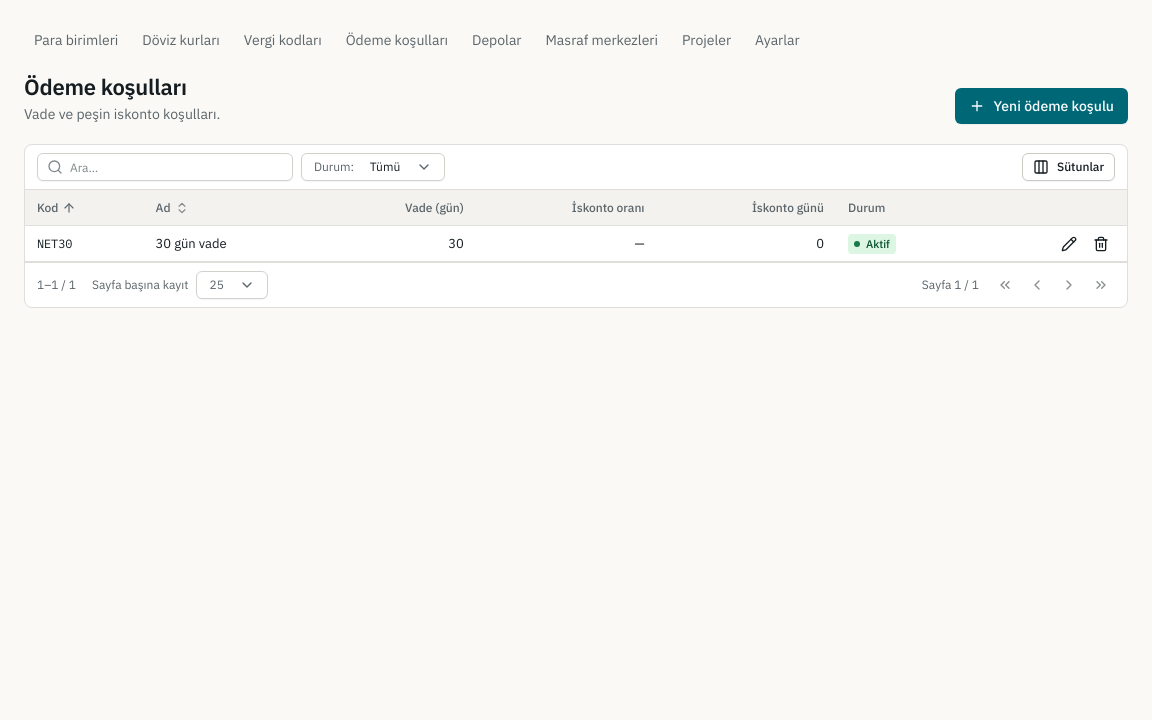
Test case: idempotent creates after an uncertain outcome › replays the same key for an identical retry and uses a new key for an edited payload
Click the button "Yeni ödeme koşulu" at (1042, 106), box [956, 88, 1128, 124]
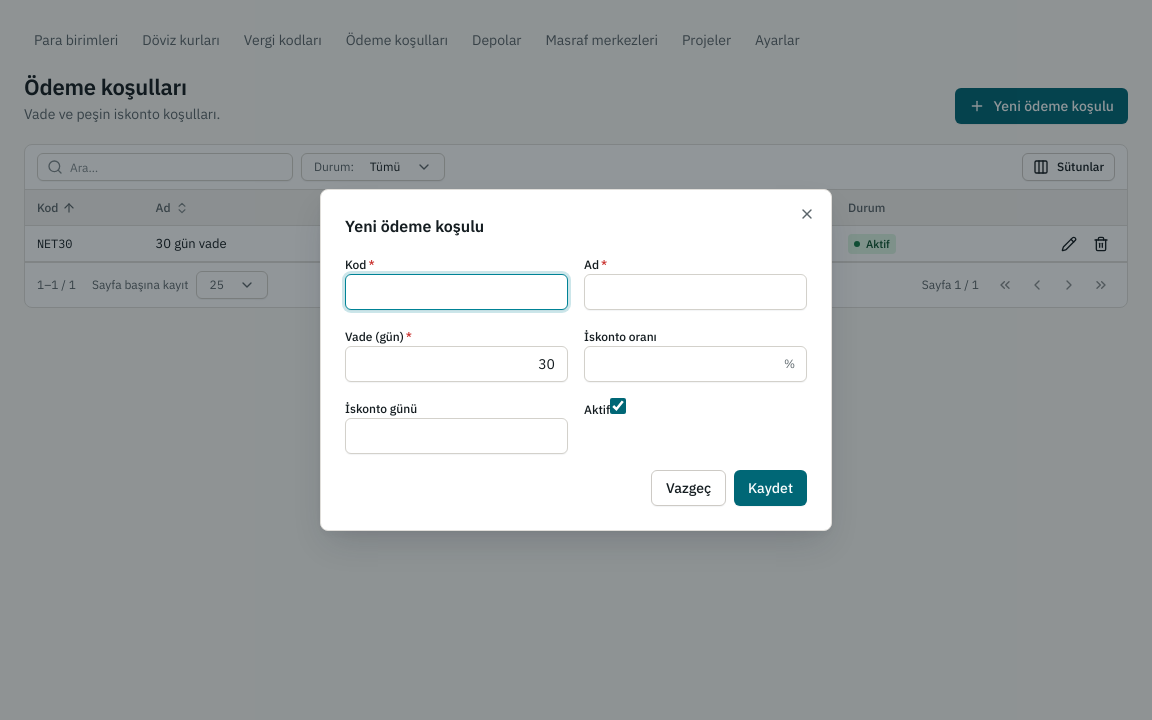
Type "net60" into the field labelled "Kod*" at (456, 292), box [345, 274, 568, 310]
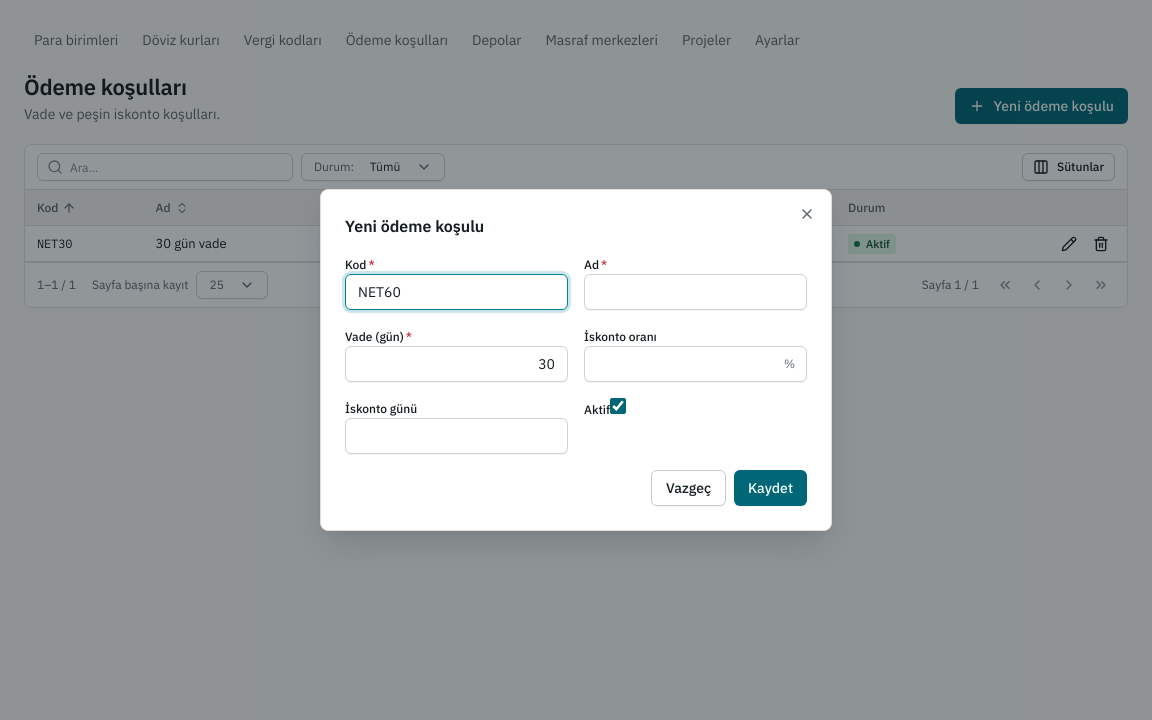
Type "Altmış gün" into the field labelled "Ad*" at (696, 292), box [584, 274, 807, 310]
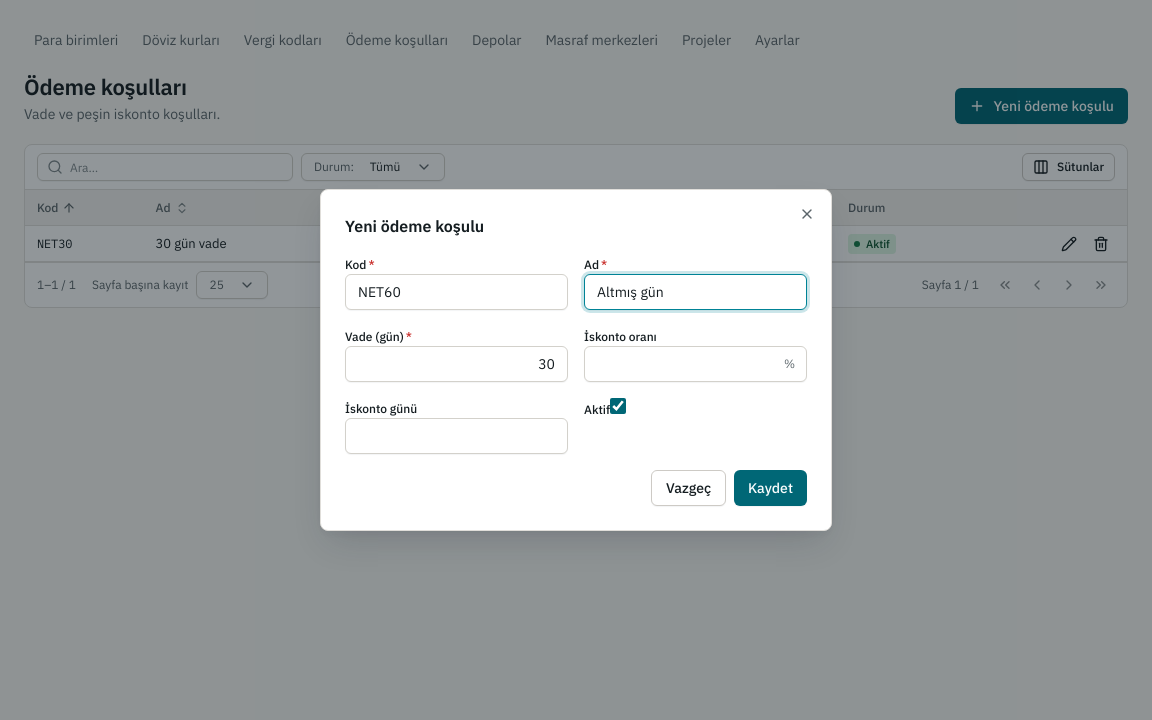
Click the button "Kaydet" at (771, 488), box [734, 470, 807, 506]
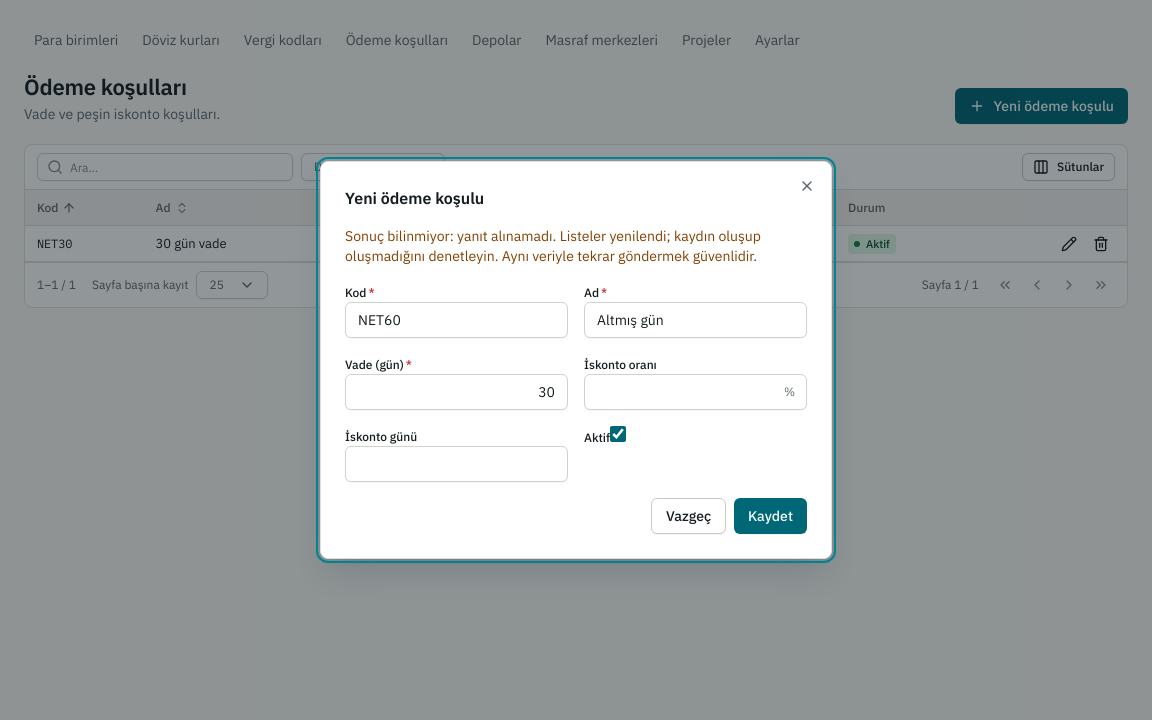
Now the text "Sonuç bilinmiyor" is shown, box [345, 227, 761, 265]
Identical payload: same key, so the server can replay the first attempt.
Click the button "Kaydet" at (771, 516), box [734, 498, 807, 534]
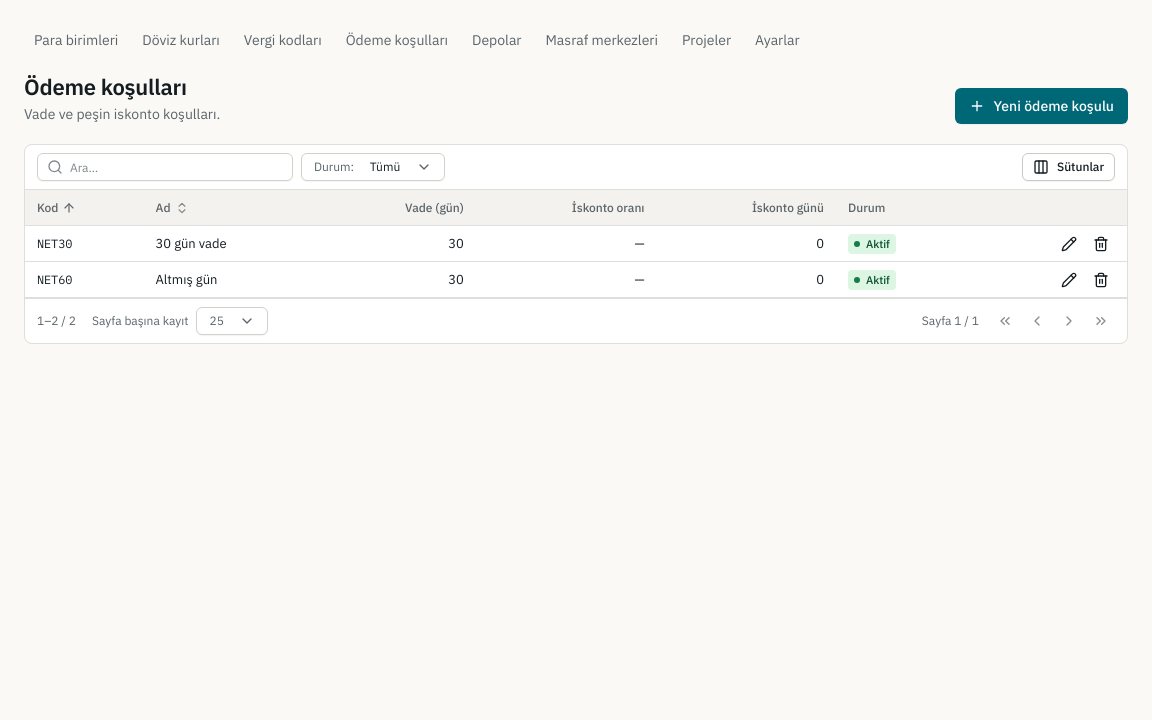
Now the dialog is gone
